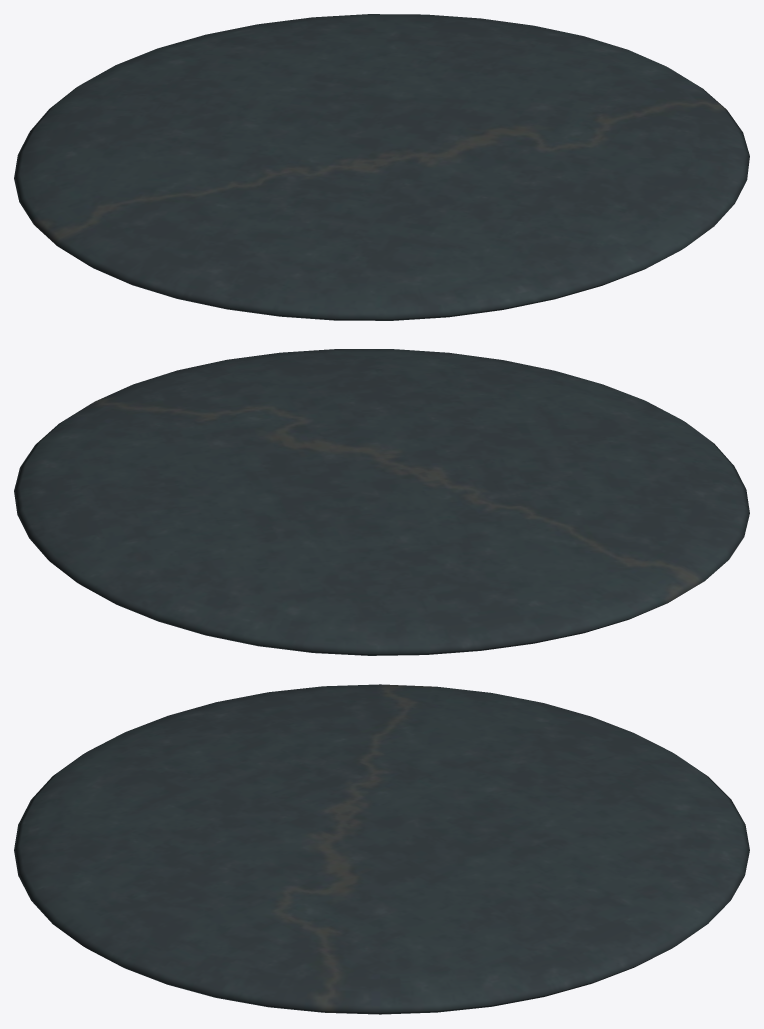
File: master_disc_01.glb
3 renders of one model, top to bottom at view 1: azimuth 30°, elevation 25°; view 2: azimuth 150°, elevation 25°; view 3: azimuth 270°, elevation 25°, orthographic. The views are drawn at different scales.
Parts seen in each view (by area): view 1: master_disc_01; view 2: master_disc_01; view 3: master_disc_01.
Part boxes in pixels (<box>): master_disc_01: <box>14,14,749,320</box>; master_disc_01: <box>14,349,749,655</box>; master_disc_01: <box>14,684,749,1014</box>.
Bounding box in the file's own units: 0.0921 × 0.00622 × 0.0878.
1 material, 1 textured.
